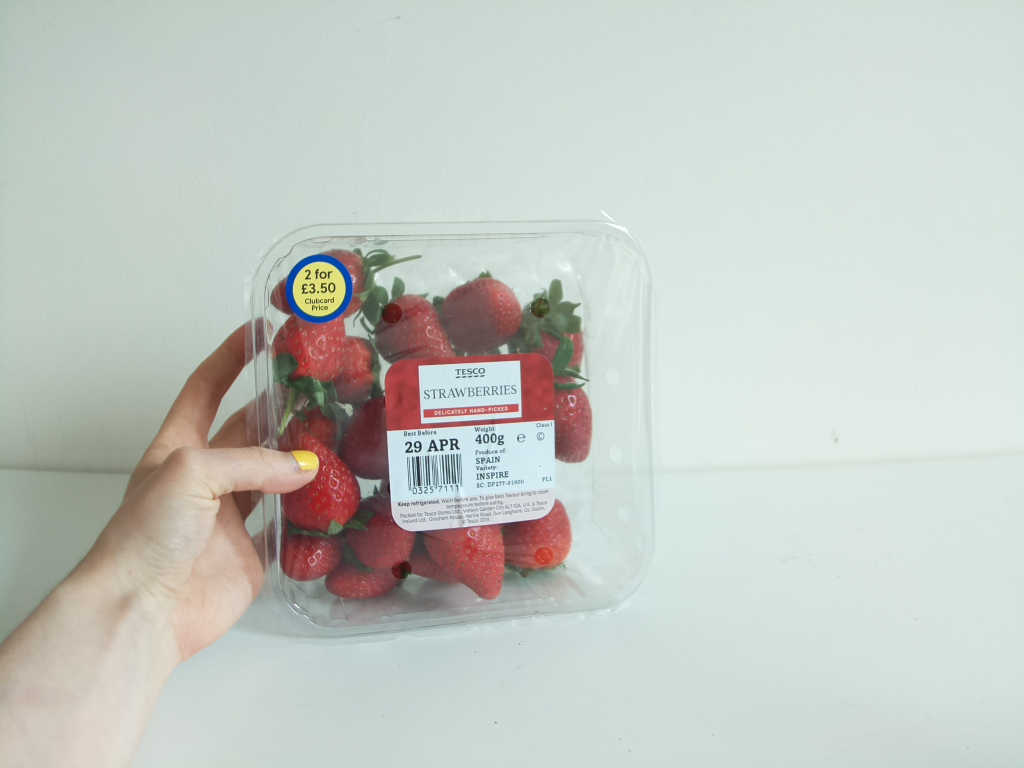soft-fruit: (238, 214, 659, 640)
